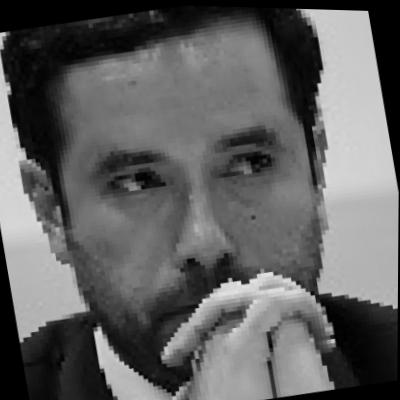sad: (38, 1, 345, 379)
